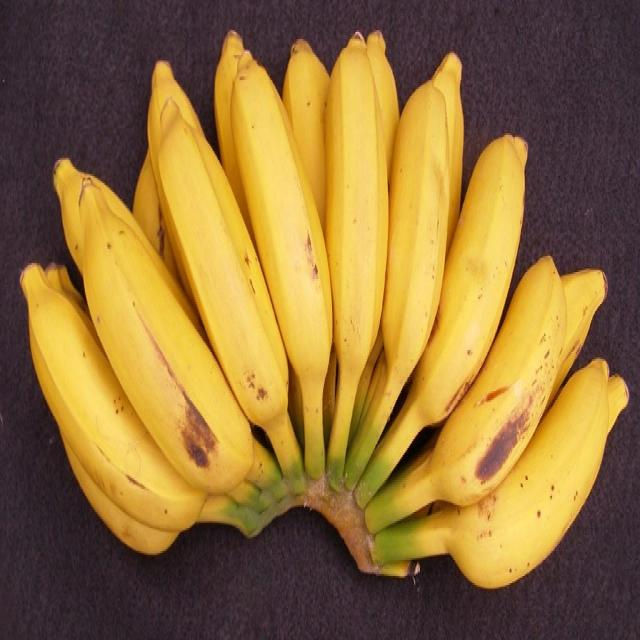banana: (18, 21, 632, 593)
